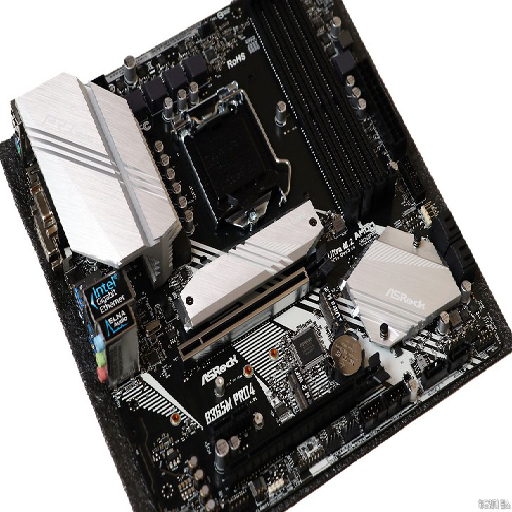CPU: (166, 82, 289, 229)
GPU: (220, 364, 389, 489), (178, 244, 332, 366)
MOTHERBOARD: (1, 2, 512, 511)
RAM: (245, 1, 395, 218)
SSD: (317, 287, 344, 335), (286, 364, 313, 412)
